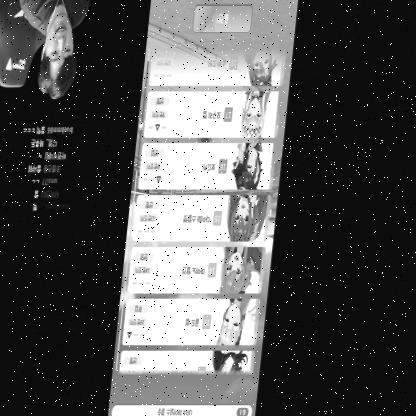streamer: (5, 0, 89, 100)
